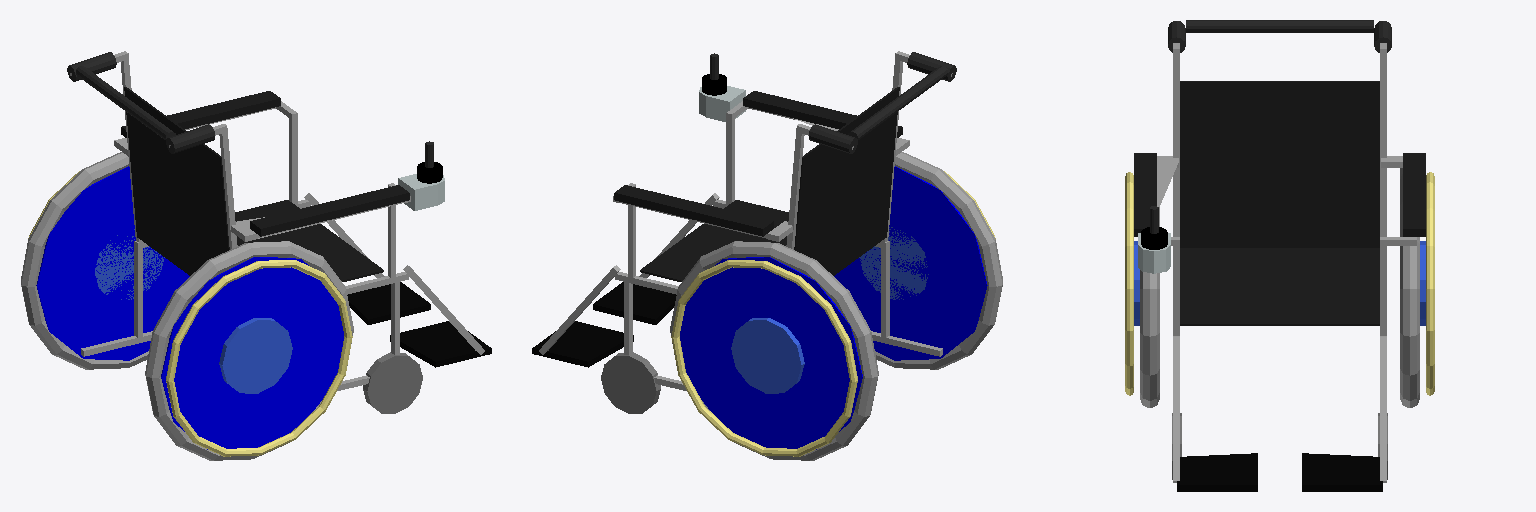
robot.urdf — room602-wheelchair_fixed:
<?xml version="1.0"?>
<robot name="room602-wheelchair_fixed"
       xmlns:xi="http://www.w3.org/2001/XInclude">
  <gazebo>
    <static>false</static>
  </gazebo>
  <link name="ROOM602-WHEELCHAIR-BODYSET2_link">
    <visual>
      <origin xyz="0 0 0" rpy="0 -0 0"/>
      <geometry>
        <mesh filename="model://room602-wheelchair/meshes/ROOM602-WHEELCHAIR-BODYSET2_link_mesh.dae" scale="1 1 1" />
      </geometry>
    </visual>
    <collision>
      <origin xyz="0 0 0" rpy="0 -0 0"/>
      <geometry>
        <mesh filename="model://room602-wheelchair/meshes/ROOM602-WHEELCHAIR-BODYSET2_link_mesh.dae" scale="1 1 1" />
      </geometry>
    </collision>
    <inertial>
      <mass value="0.001" />
      <origin xyz="0 0 0" rpy="0 -0 0"/>
      <inertia ixx="1e-03" ixy="0" ixz="0" iyy="1e-03" iyz="0" izz="1e-03"/>
    </inertial>
  </link>
  <gazebo reference="ROOM602-WHEELCHAIR-BODYSET2_link">
    <mu1>0.9</mu1>
    <mu2>0.9</mu2>
  </gazebo>
  <link name="LEFT-LARGE_link">
    <visual>
      <origin xyz="0 0.23 0" rpy="0 -0 0"/>
      <geometry>
        <mesh filename="model://room602-wheelchair/meshes/LEFT-LARGE_link_mesh.dae" scale="1 1 1" />
      </geometry>
    </visual>
    <collision>
      <origin xyz="0 0.23 0" rpy="0 -0 0"/>
      <geometry>
        <mesh filename="model://room602-wheelchair/meshes/LEFT-LARGE_link_mesh.dae" scale="1 1 1" />
      </geometry>
    </collision>
    <inertial>
      <mass value="0.001" />
      <origin xyz="0 0 0" rpy="0 -0 0"/>
      <inertia ixx="1e-03" ixy="0" ixz="0" iyy="1e-03" iyz="0" izz="1e-03"/>
    </inertial>
  </link>
  <gazebo reference="LEFT-LARGE_link">
    <mu1>0.9</mu1>
    <mu2>0.9</mu2>
  </gazebo>
  <link name="LEFT-SMALL_link">
    <visual>
      <origin xyz="0.21 0.23 0.075" rpy="0 -0 0"/>
      <geometry>
        <mesh filename="model://room602-wheelchair/meshes/LEFT-SMALL_link_mesh.dae" scale="1 1 1" />
      </geometry>
    </visual>
    <collision>
      <origin xyz="0.21 0.23 0.075" rpy="0 -0 0"/>
      <geometry>
        <mesh filename="model://room602-wheelchair/meshes/LEFT-SMALL_link_mesh.dae" scale="1 1 1" />
      </geometry>
    </collision>
    <inertial>
      <mass value="0.001" />
      <origin xyz="0 0 0" rpy="0 -0 0"/>
      <inertia ixx="1e-03" ixy="0" ixz="0" iyy="1e-03" iyz="0" izz="1e-03"/>
    </inertial>
  </link>
  <gazebo reference="LEFT-SMALL_link">
    <mu1>0.9</mu1>
    <mu2>0.9</mu2>
  </gazebo>
  <link name="RIGHT-LARGE_link">
    <visual>
      <origin xyz="0 -0.23 0" rpy="0 -0 0"/>
      <geometry>
        <mesh filename="model://room602-wheelchair/meshes/RIGHT-LARGE_link_mesh.dae" scale="1 1 1" />
      </geometry>
    </visual>
    <collision>
      <origin xyz="0 -0.23 0" rpy="0 -0 0"/>
      <geometry>
        <mesh filename="model://room602-wheelchair/meshes/RIGHT-LARGE_link_mesh.dae" scale="1 1 1" />
      </geometry>
    </collision>
    <inertial>
      <mass value="0.001" />
      <origin xyz="0 0 0" rpy="0 -0 0"/>
      <inertia ixx="1e-03" ixy="0" ixz="0" iyy="1e-03" iyz="0" izz="1e-03"/>
    </inertial>
  </link>
  <gazebo reference="RIGHT-LARGE_link">
    <mu1>0.9</mu1>
    <mu2>0.9</mu2>
  </gazebo>
  <link name="RIGHT-SMALL_link">
    <visual>
      <origin xyz="0.21 -0.23 0.075" rpy="0 -0 0"/>
      <geometry>
        <mesh filename="model://room602-wheelchair/meshes/RIGHT-SMALL_link_mesh.dae" scale="1 1 1" />
      </geometry>
    </visual>
    <collision>
      <origin xyz="0.21 -0.23 0.075" rpy="0 -0 0"/>
      <geometry>
        <mesh filename="model://room602-wheelchair/meshes/RIGHT-SMALL_link_mesh.dae" scale="1 1 1" />
      </geometry>
    </collision>
    <inertial>
      <mass value="0.001" />
      <origin xyz="0 0 0" rpy="0 -0 0"/>
      <inertia ixx="1e-03" ixy="0" ixz="0" iyy="1e-03" iyz="0" izz="1e-03"/>
    </inertial>
  </link>
  <gazebo reference="RIGHT-SMALL_link">
    <mu1>0.9</mu1>
    <mu2>0.9</mu2>
  </gazebo>
  <joint name="LEFT-LARGE" type="revolute">
    <parent link="ROOM602-WHEELCHAIR-BODYSET2_link"/>
    <child  link="LEFT-LARGE_link"/>
    <origin xyz="0 0.23 0" rpy="0 -0 0 "/>
    <axis   xyz="0 0 -1"/>
    <limit lower="-1.5708" upper="1.5708" effort="100" velocity="0.5" />
    <dynamics damping="0.2" friction="0" />
  </joint>
  <transmission type="pr2_mechanism_model/SimpleTransmission" name="LEFT-LARGE_trans" >
    <actuator name="LEFT-LARGE_motor" />
    <joint name="LEFT-LARGE" />
    <mechanicalReduction>1</mechanicalReduction>
  </transmission>
  <gazebo reference="LEFT-LARGE">
    <cfmDamping>0.4</cfmDamping>
  </gazebo>
  <joint name="LEFT-SMALL" type="revolute">
    <parent link="ROOM602-WHEELCHAIR-BODYSET2_link"/>
    <child  link="LEFT-SMALL_link"/>
    <origin xyz="0.21 0.23 0.075" rpy="0 -0 0 "/>
    <axis   xyz="0 0 -1"/>
    <limit lower="-1.5708" upper="1.5708" effort="100" velocity="0.5" />
    <dynamics damping="0.2" friction="0" />
  </joint>
  <transmission type="pr2_mechanism_model/SimpleTransmission" name="LEFT-SMALL_trans" >
    <actuator name="LEFT-SMALL_motor" />
    <joint name="LEFT-SMALL" />
    <mechanicalReduction>1</mechanicalReduction>
  </transmission>
  <gazebo reference="LEFT-SMALL">
    <cfmDamping>0.4</cfmDamping>
  </gazebo>
  <joint name="RIGHT-LARGE" type="revolute">
    <parent link="ROOM602-WHEELCHAIR-BODYSET2_link"/>
    <child  link="RIGHT-LARGE_link"/>
    <origin xyz="0 -0.23 0" rpy="0 -0 0 "/>
    <axis   xyz="0 0 -1"/>
    <limit lower="-1.5708" upper="1.5708" effort="100" velocity="0.5" />
    <dynamics damping="0.2" friction="0" />
  </joint>
  <transmission type="pr2_mechanism_model/SimpleTransmission" name="RIGHT-LARGE_trans" >
    <actuator name="RIGHT-LARGE_motor" />
    <joint name="RIGHT-LARGE" />
    <mechanicalReduction>1</mechanicalReduction>
  </transmission>
  <gazebo reference="RIGHT-LARGE">
    <cfmDamping>0.4</cfmDamping>
  </gazebo>
  <joint name="RIGHT-SMALL" type="revolute">
    <parent link="ROOM602-WHEELCHAIR-BODYSET2_link"/>
    <child  link="RIGHT-SMALL_link"/>
    <origin xyz="0.21 -0.23 0.075" rpy="0 -0 0 "/>
    <axis   xyz="0 0 -1"/>
    <limit lower="-1.5708" upper="1.5708" effort="100" velocity="0.5" />
    <dynamics damping="0.2" friction="0" />
  </joint>
  <transmission type="pr2_mechanism_model/SimpleTransmission" name="RIGHT-SMALL_trans" >
    <actuator name="RIGHT-SMALL_motor" />
    <joint name="RIGHT-SMALL" />
    <mechanicalReduction>1</mechanicalReduction>
  </transmission>
  <gazebo reference="RIGHT-SMALL">
    <cfmDamping>0.4</cfmDamping>
  </gazebo>
  <!-- Used for fixing robot to Gazebo 'base_link' -->
  <link name="world"/>
  <joint name="fixed" type="fixed">
    <parent link="world"/>
    <child link="ROOM602-WHEELCHAIR-BODYSET2_link"/>
  </joint>
</robot>

--- Render facts (derived) ---
The picture shows the robot from 3 angles, left to right: view 1: azimuth 30°, elevation 25°; view 2: azimuth 150°, elevation 25°; view 3: azimuth 270°, elevation 25°; orthographic projection.
Robot: room602-wheelchair_fixed — 6 links, 5 joints (4 revolute, 1 fixed); root link world; default pose: every joint at zero.
Visible links, largest first — view 1: ROOM602-WHEELCHAIR-BODYSET2_link, RIGHT-LARGE_link, LEFT-LARGE_link, RIGHT-SMALL_link; view 2: ROOM602-WHEELCHAIR-BODYSET2_link, LEFT-LARGE_link, RIGHT-LARGE_link, LEFT-SMALL_link; view 3: ROOM602-WHEELCHAIR-BODYSET2_link, LEFT-LARGE_link, RIGHT-LARGE_link.
Boxes of the visible links, left/top/right/bottom form: ROOM602-WHEELCHAIR-BODYSET2_link: left=67, top=51, right=491, bottom=390; RIGHT-LARGE_link: left=145, top=241, right=353, bottom=460; LEFT-LARGE_link: left=21, top=152, right=189, bottom=369; RIGHT-SMALL_link: left=363, top=352, right=422, bottom=413; ROOM602-WHEELCHAIR-BODYSET2_link: left=532, top=51, right=956, bottom=390; LEFT-LARGE_link: left=670, top=241, right=878, bottom=460; RIGHT-LARGE_link: left=834, top=152, right=1002, bottom=369; LEFT-SMALL_link: left=601, top=352, right=660, bottom=413; ROOM602-WHEELCHAIR-BODYSET2_link: left=1134, top=20, right=1425, bottom=491; LEFT-LARGE_link: left=1400, top=168, right=1434, bottom=407; RIGHT-LARGE_link: left=1125, top=172, right=1159, bottom=407.
Bounding box of the posed robot: 0.9635 × 0.69 × 0.853 m (x, y, z).
5 mesh visuals loaded from 5 distinct referenced files (5 Collada DAE).